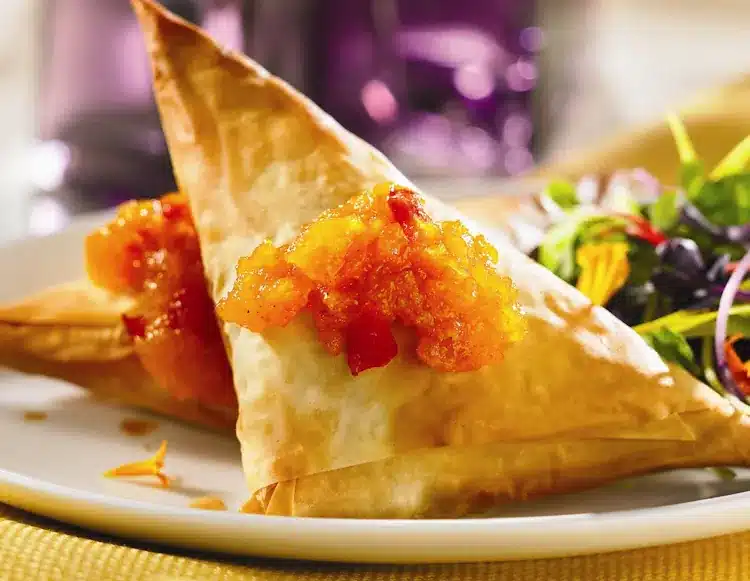samosa: (107, 0, 749, 517)
